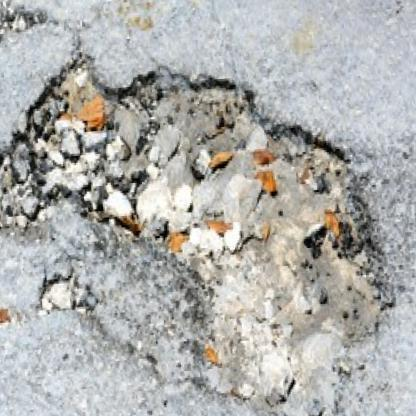pothole: (0, 25, 407, 416)
